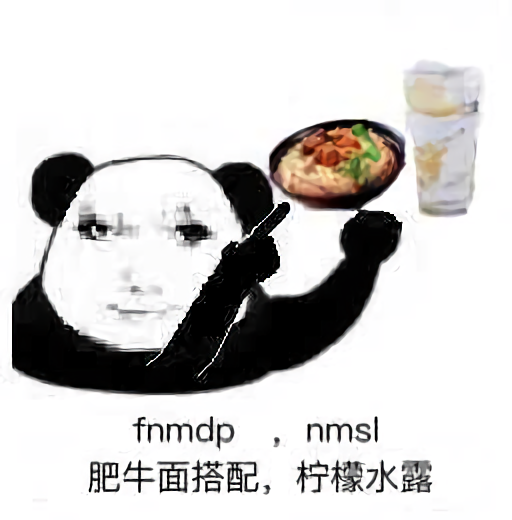dragon: (73, 199, 216, 323)
